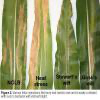Corn leaf blight: (2, 0, 27, 79), (29, 0, 54, 75), (54, 0, 79, 74), (76, 0, 99, 75)
